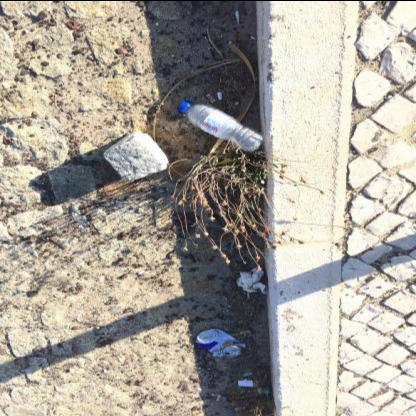Bottle: (178, 100, 190, 112)
Bottle cap: (178, 99, 264, 151)
Can: (196, 328, 242, 358)
Cigarette: (206, 93, 216, 103), (220, 341, 235, 347), (240, 371, 252, 377), (240, 329, 251, 334), (235, 406, 244, 410), (216, 394, 221, 401), (217, 91, 221, 99)
Paper: (235, 267, 266, 293)
Pop tab: (228, 350, 238, 354)
Unlabeled litter: (237, 379, 254, 385)
